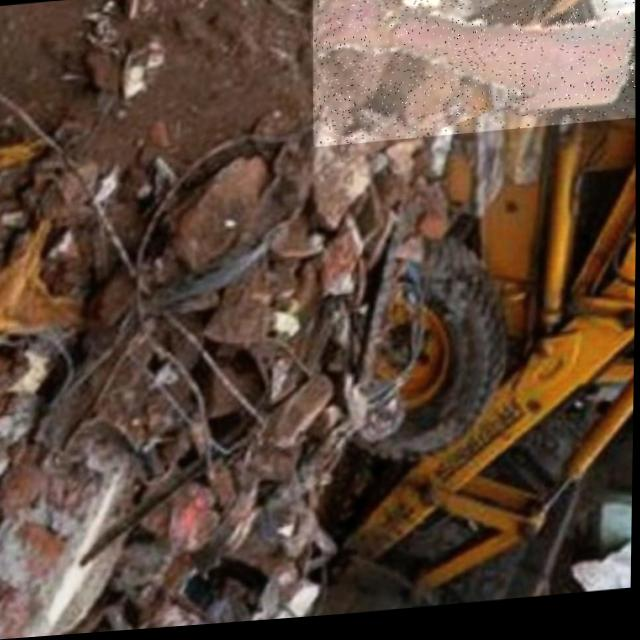Person in Rubble: (309, 0, 637, 152)
